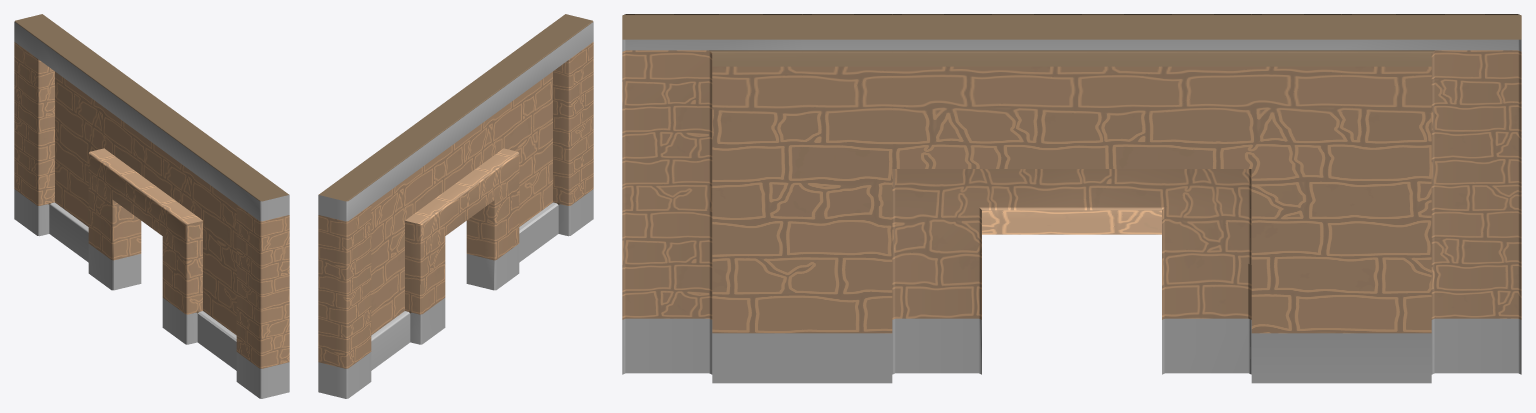
File: DoorWall_FBX.fbx
The picture shows the model from 3 angles, left to right: view 1: azimuth 30°, elevation 25°; view 2: azimuth 150°, elevation 25°; view 3: azimuth 270°, elevation 25°; orthographic projection. The views are drawn at different scales.
Visible parts, largest first — view 1: DoorWall; view 2: DoorWall; view 3: DoorWall.
Boxes of the visible parts, x1=… form: DoorWall: x1=14, y1=14, x2=289, y2=398; DoorWall: x1=318, y1=14, x2=593, y2=398; DoorWall: x1=622, y1=14, x2=1521, y2=383.
Bounding box in the file's own units: 0.5658 × 3.69 × 8.37.
